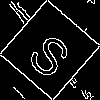S: (24, 24, 80, 82)
